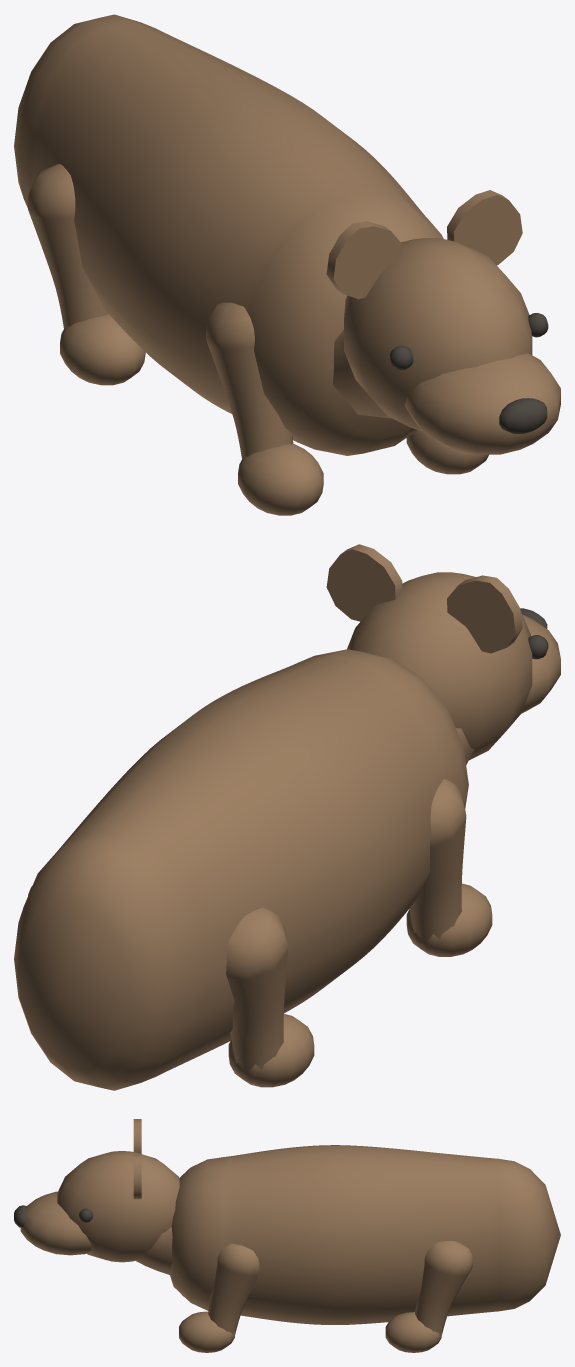
Rendered from capybara.glb.
The picture shows the model from 3 angles, top to bottom: view 1: azimuth 30°, elevation 25°; view 2: azimuth 150°, elevation 25°; view 3: azimuth 270°, elevation 25°; orthographic projection. The views are drawn at different scales.
Visible parts, largest first — view 1: capybara; view 2: capybara; view 3: capybara.
Part boxes in pixels (x1,y1,x2,y2): capybara: (14, 14, 560, 515); capybara: (14, 544, 560, 1090); capybara: (14, 1119, 560, 1352).
Size of the model in its own units: 0.3628 by 0.4554 by 1.2.
